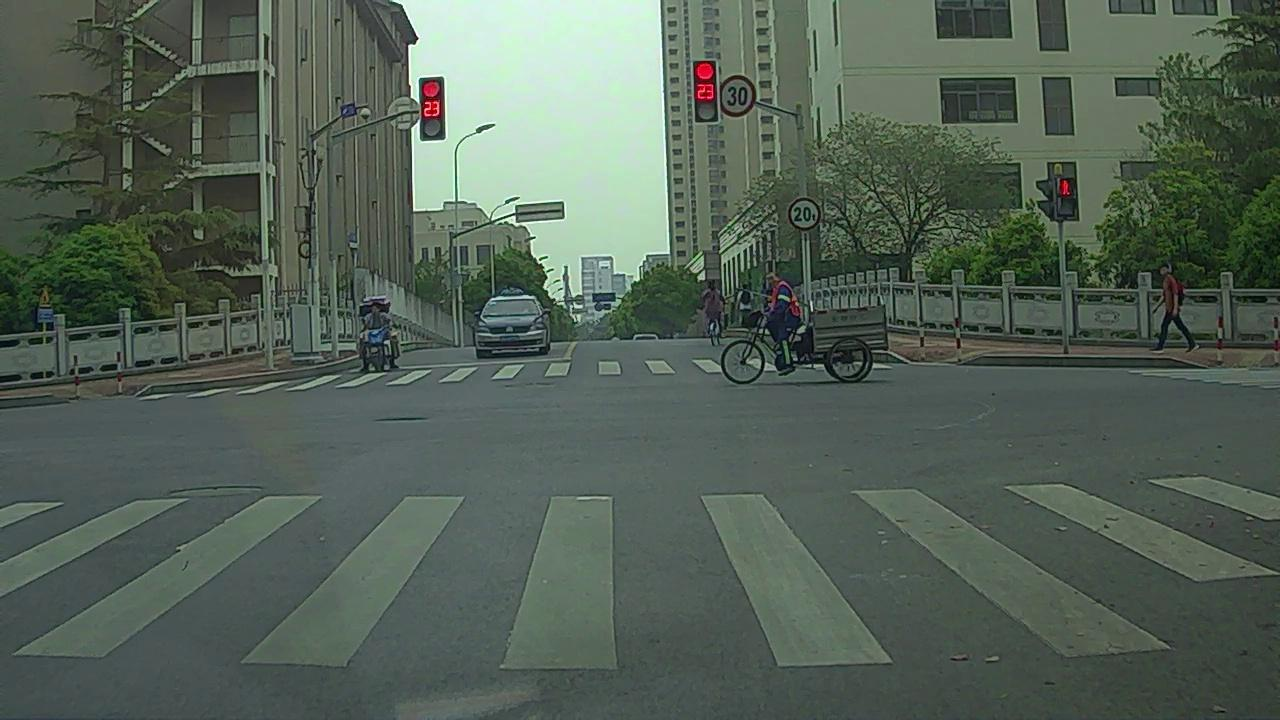traffic_light: (694, 61, 719, 124), (421, 78, 444, 142)
